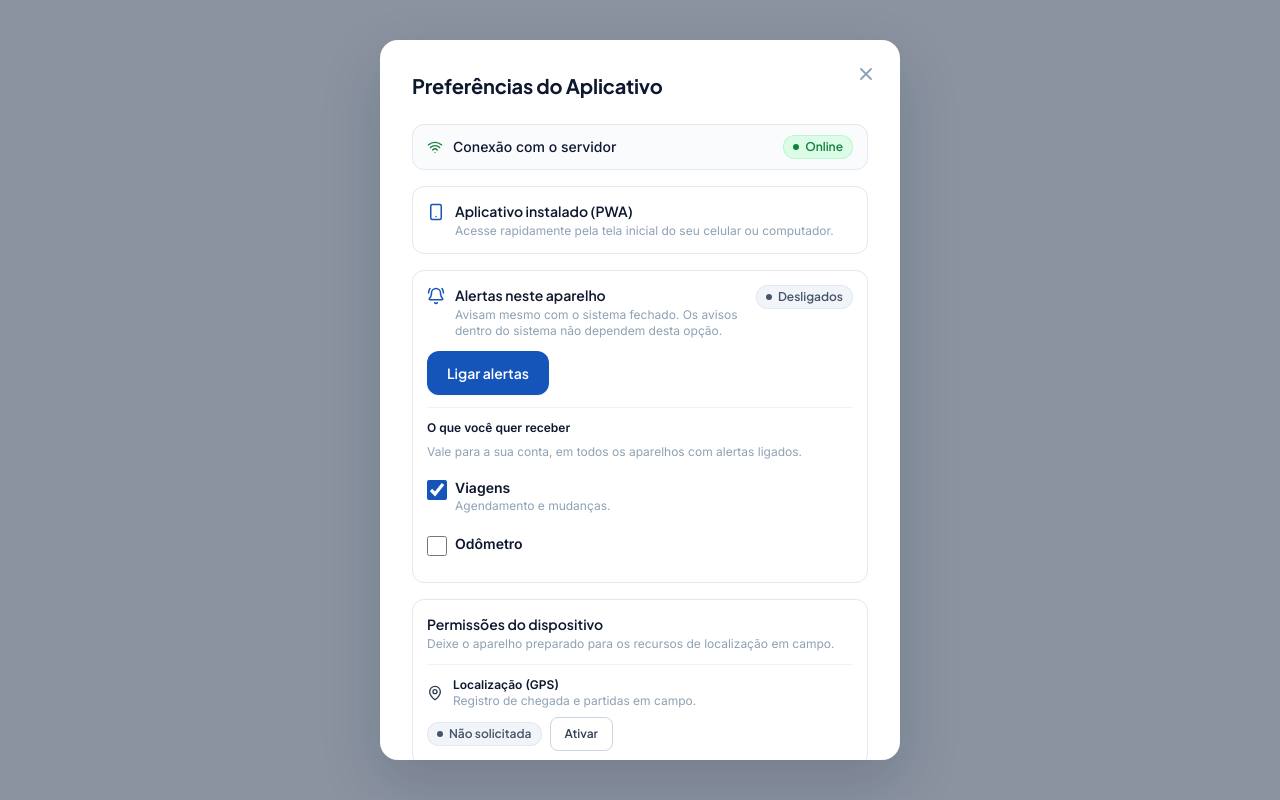
it: Ligar e desligar neste aparelho › negada, explica como permitir e não pede de novo
The image size is (1280, 800).
Click the button "Ligar alertas". click: [488, 373]
box: [427, 351, 549, 395]
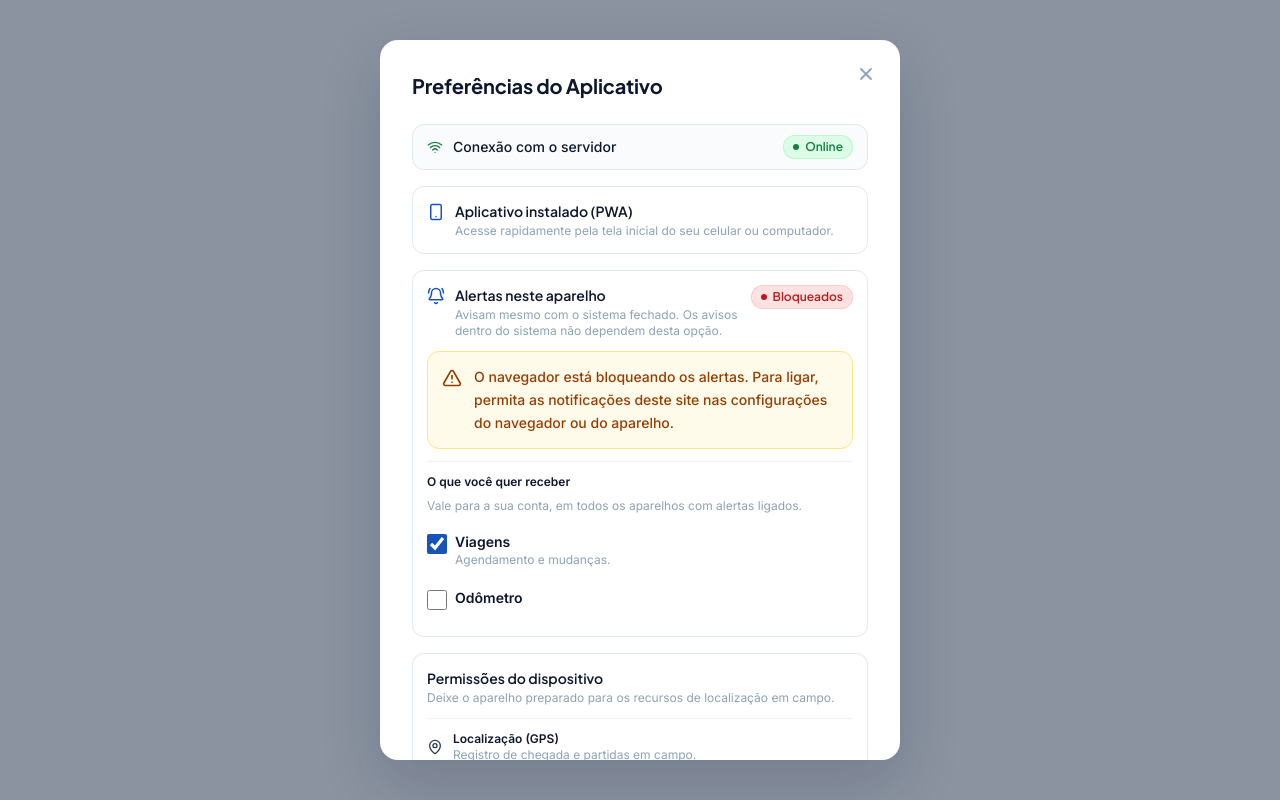
Now the text "O navegador está bloqueando os alertas" is shown, box [474, 368, 827, 430]
Now the button "Ligar alertas" is gone
